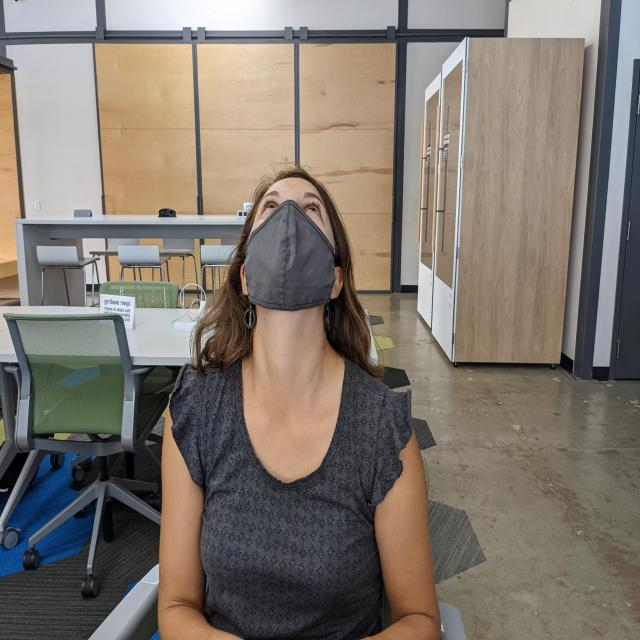face: (242, 180, 340, 315)
